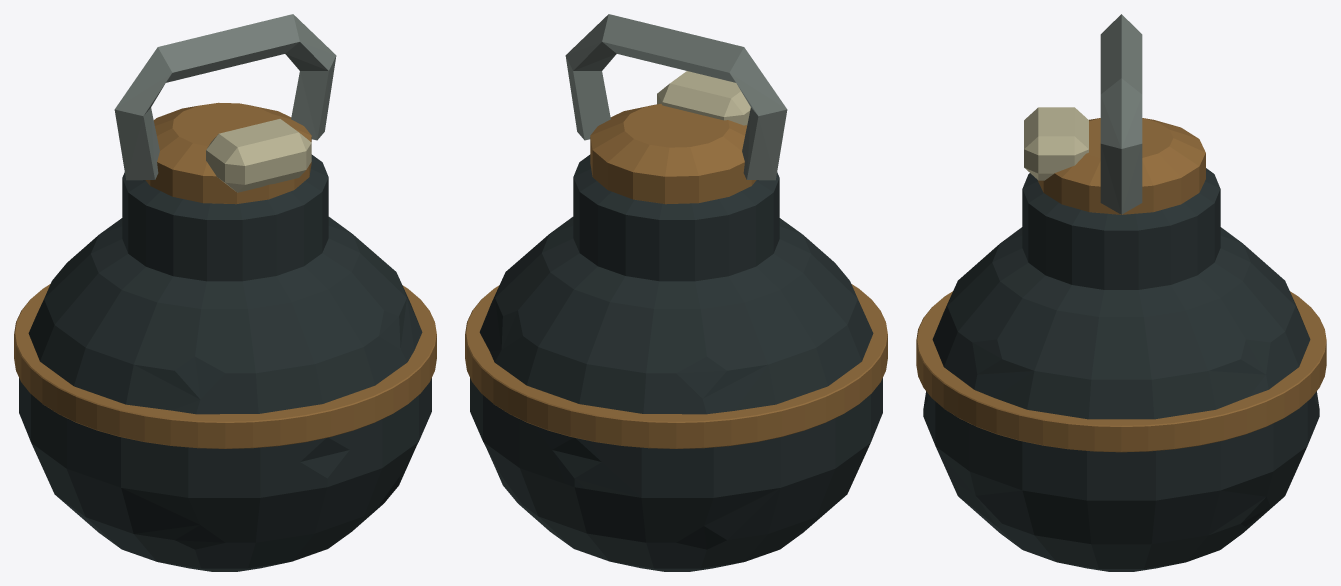
Rendered from VAULT_BOMB.lo.glb.
The picture shows the model from 3 angles, left to right: view 1: azimuth 30°, elevation 25°; view 2: azimuth 150°, elevation 25°; view 3: azimuth 270°, elevation 25°; orthographic projection. The views are drawn at different scales.
Visible parts, largest first — view 1: Body_Mesh; view 2: Body_Mesh; view 3: Body_Mesh.
Boxes of the visible parts, box(x1,y1,x2,y2) form: Body_Mesh: box(14, 14, 436, 571); Body_Mesh: box(465, 14, 887, 571); Body_Mesh: box(916, 14, 1326, 571).
Bounding box in the file's own units: 0.632 × 0.8612 × 0.632.
